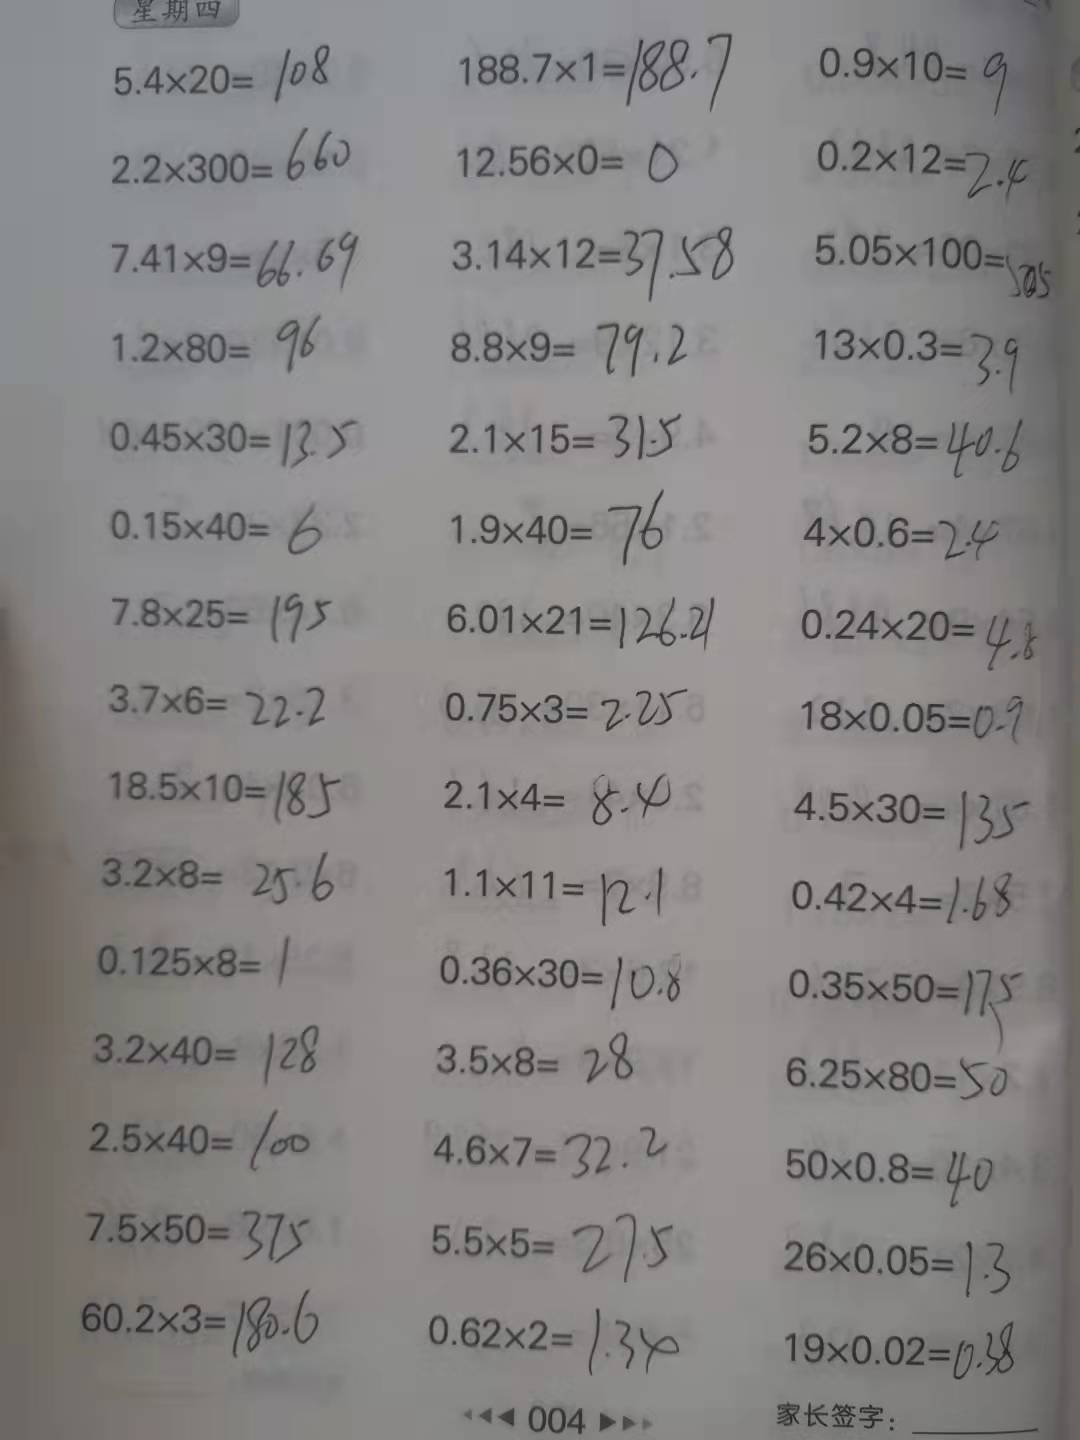equation: (454, 28, 752, 115), (419, 1198, 672, 1294), (417, 1302, 686, 1389), (431, 937, 706, 1017), (810, 223, 1057, 311), (71, 1282, 334, 1362), (442, 219, 742, 288), (796, 590, 1049, 671), (449, 483, 675, 570), (774, 1226, 1026, 1304), (419, 1113, 682, 1187), (101, 222, 368, 295), (807, 33, 1019, 124), (428, 852, 681, 927), (809, 132, 1033, 215), (438, 671, 693, 744), (79, 1194, 319, 1271), (449, 305, 695, 380), (790, 780, 1031, 856), (440, 592, 728, 655), (83, 1102, 329, 1176), (104, 122, 357, 194), (100, 400, 360, 469), (775, 1137, 1009, 1213), (98, 308, 331, 382), (95, 759, 352, 825), (96, 846, 351, 913), (86, 1011, 328, 1081), (777, 870, 1026, 937), (777, 1042, 1015, 1111), (107, 579, 337, 651), (798, 683, 1031, 753), (808, 322, 1018, 400), (774, 956, 1033, 1018), (447, 403, 687, 469), (781, 1318, 1022, 1383), (440, 766, 684, 831), (98, 491, 334, 554), (427, 1027, 642, 1096), (93, 36, 345, 95), (455, 133, 687, 195), (805, 415, 1033, 478), (800, 501, 1009, 569), (88, 923, 304, 989), (100, 672, 334, 732)
